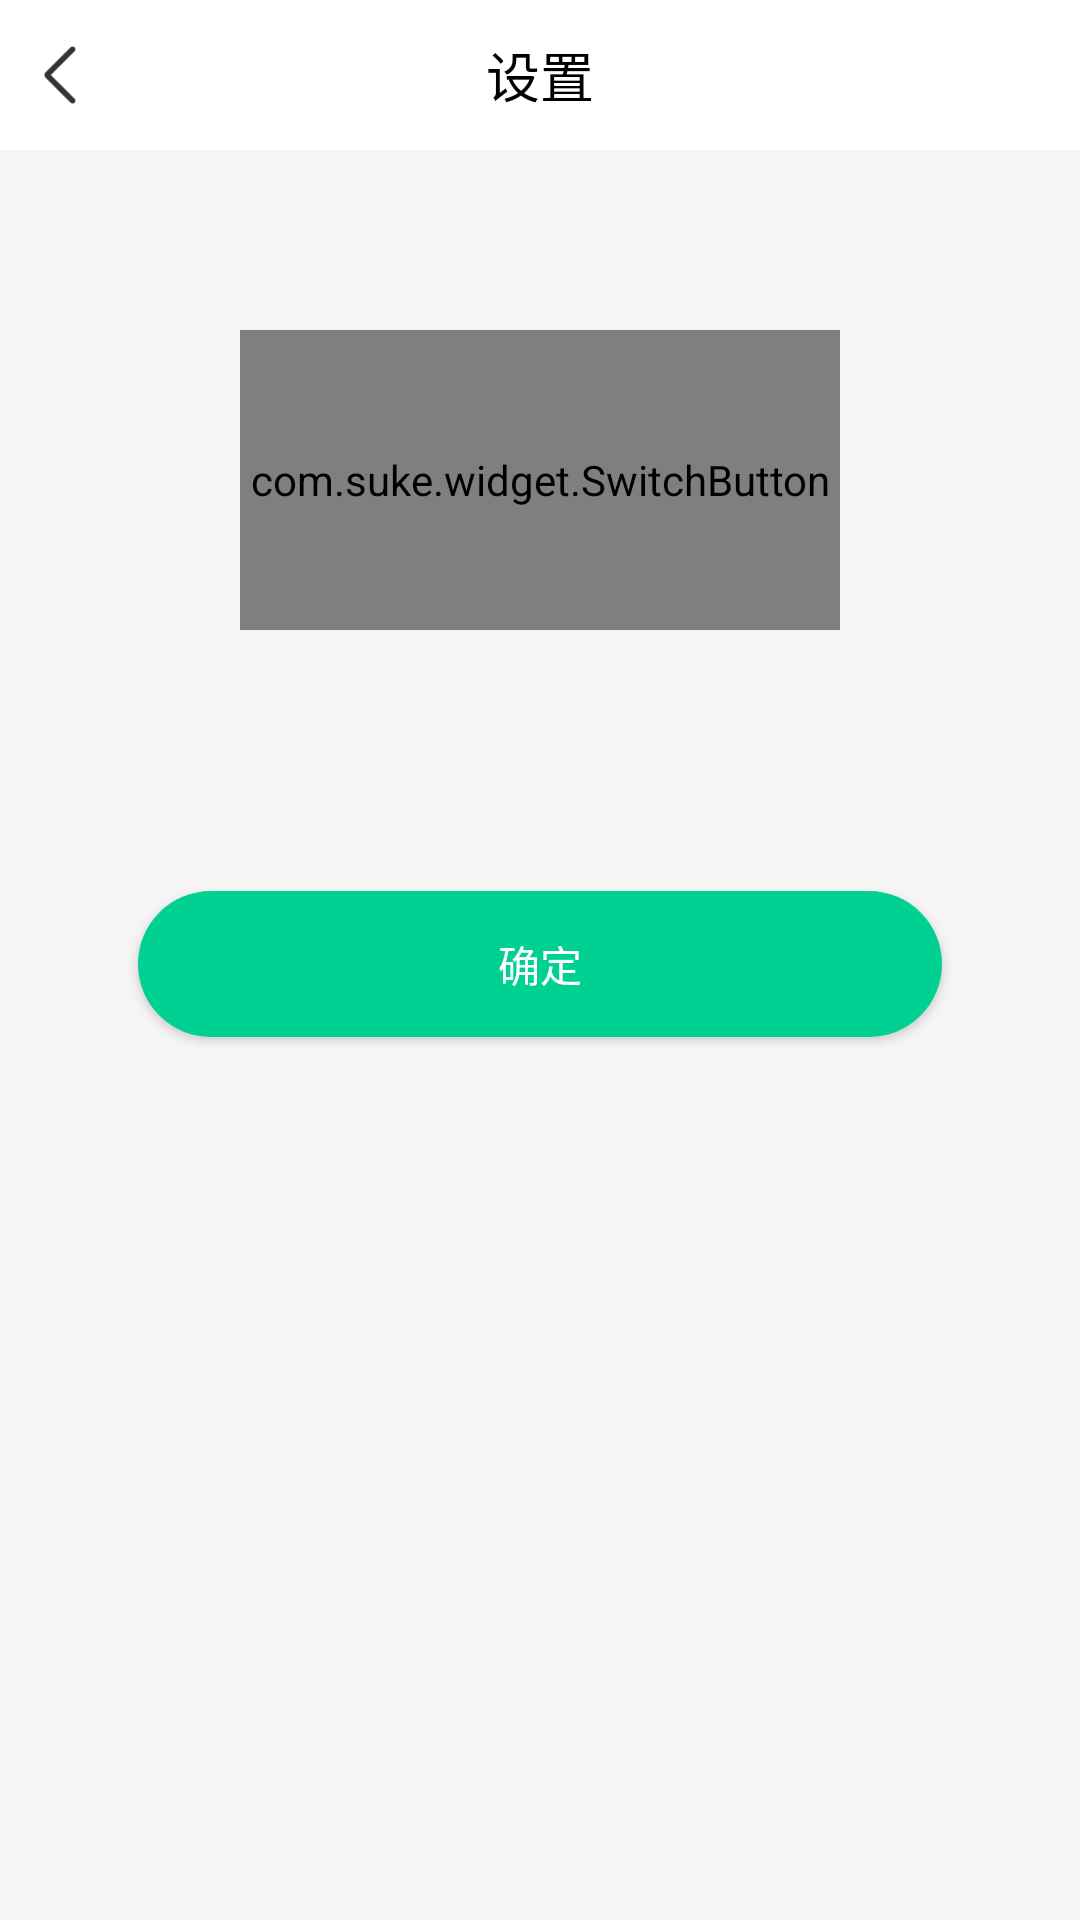

Icons on this 1080w x 1920h Android screen, each with its box as (x1, y1, x2, y2):
back: (44, 46, 76, 104)
